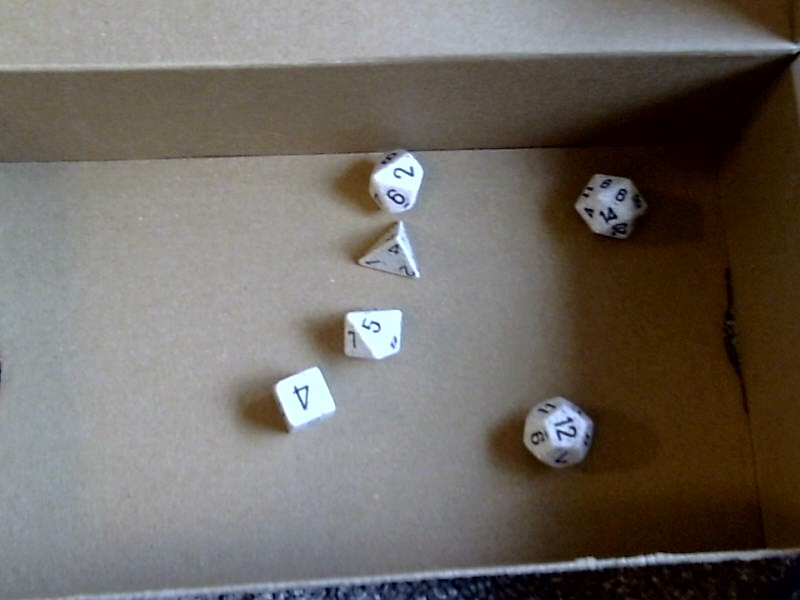d10 2: (363, 143, 429, 220)
d12 12: (515, 394, 601, 478)
d20 6: (573, 166, 652, 246)
d4 4: (353, 221, 417, 284)
d6 4: (269, 363, 342, 434)
d8 5: (339, 300, 404, 364)
